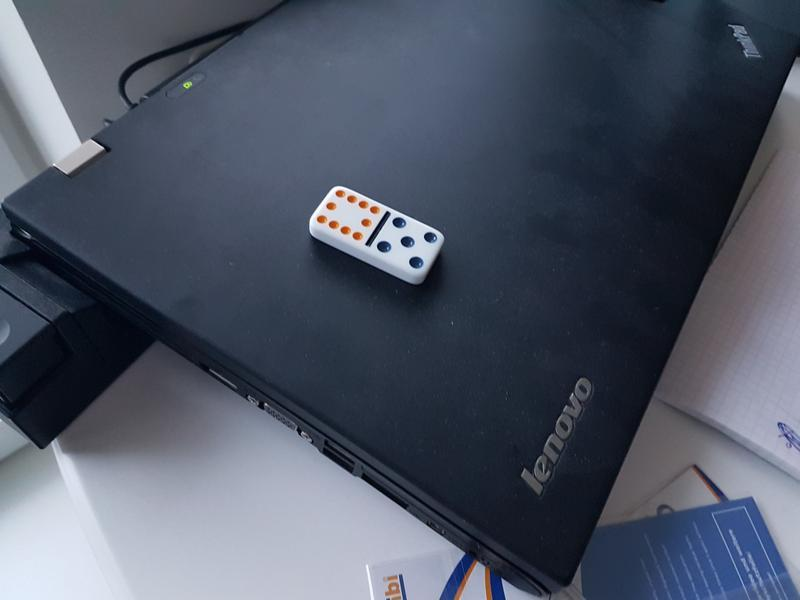Domino: (307, 183, 447, 288)
